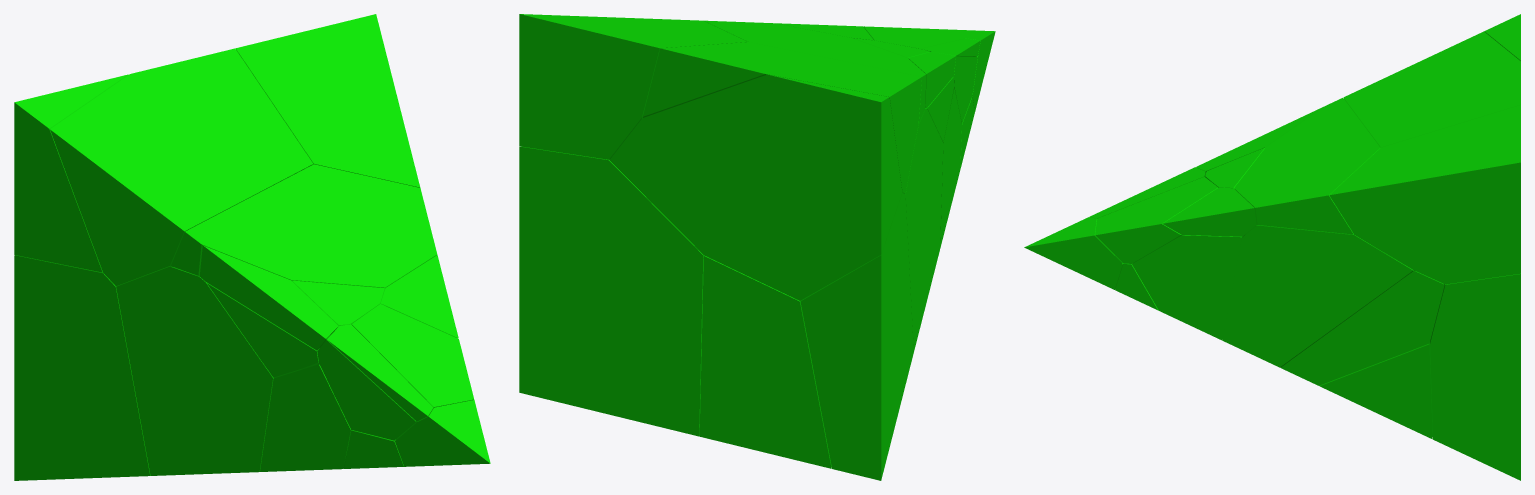
The model's file is ShatteredPlayerCharacter.fbx.
3 views of the same model, side by side, from view 1: azimuth 30°, elevation 25°; view 2: azimuth 150°, elevation 25°; view 3: azimuth 270°, elevation 25° (orthographic). The views are drawn at different scales.
Parts seen in each view (by area): view 1: Cone_cell.020, Cone_cell.013, Cone_cell.023, Cone_cell.022, Cone_cell.014, Cone_cell.018, Cone_cell.002, Cone_cell.012, Cone_cell.021, Cone_cell.006, Cone_cell.003, Cone_cell.005 (+3 smaller); view 2: Cone_cell.018, Cone_cell.004, Cone_cell.011, Cone_cell.014, Cone_cell.013, Cone_cell.020, Cone_cell.023, Cone_cell.022, Cone_cell.002, Cone_cell.012, Cone_cell.006, Cone_cell.021 (+4 smaller); view 3: Cone_cell.014, Cone_cell.010, Cone_cell.004, Cone_cell.020, Cone_cell.022, Cone_cell.009, Cone_cell.016, Cone_cell.007, Cone_cell.012, Cone_cell.003, Cone_cell, Cone_cell.021 (+4 smaller).
Boxes of the visible parts, left/top/right/bottom form: Cone_cell.020: left=50, top=48, right=313, bottom=286; Cone_cell.013: left=14, top=255, right=150, bottom=480; Cone_cell.023: left=116, top=266, right=273, bottom=475; Cone_cell.022: left=171, top=164, right=437, bottom=288; Cone_cell.014: left=235, top=14, right=420, bottom=187; Cone_cell.018: left=14, top=74, right=128, bottom=273; Cone_cell.002: left=260, top=364, right=351, bottom=471; Cone_cell.012: left=351, top=304, right=474, bottom=407; Cone_cell.021: left=199, top=245, right=338, bottom=350; Cone_cell.006: left=206, top=280, right=385, bottom=378; Cone_cell.003: left=395, top=400, right=490, bottom=466; Cone_cell.005: left=317, top=339, right=415, bottom=440; Cone_cell.018: left=609, top=74, right=902, bottom=300; Cone_cell.004: left=519, top=146, right=703, bottom=436; Cone_cell.011: left=699, top=255, right=831, bottom=468; Cone_cell.014: left=519, top=14, right=747, bottom=159; Cone_cell.013: left=800, top=193, right=913, bottom=480; Cone_cell.020: left=642, top=42, right=921, bottom=193; Cone_cell.023: left=905, top=108, right=943, bottom=351; Cone_cell.022: left=704, top=20, right=926, bottom=123; Cone_cell.002: left=940, top=88, right=961, bottom=248; Cone_cell.012: left=863, top=26, right=964, bottom=48; Cone_cell.006: left=852, top=38, right=954, bottom=142; Cone_cell.021: left=908, top=52, right=955, bottom=108; Cone_cell.014: left=1329, top=105, right=1520, bottom=284; Cone_cell.010: left=1222, top=225, right=1414, bottom=367; Cone_cell.004: left=1429, top=273, right=1520, bottom=480; Cone_cell.020: left=1343, top=31, right=1520, bottom=147; Cone_cell.022: left=1234, top=98, right=1380, bottom=234; Cone_cell.009: left=1281, top=271, right=1444, bottom=385; Cone_cell.016: left=1132, top=235, right=1243, bottom=340; Cone_cell.007: left=1319, top=344, right=1432, bottom=439; Cone_cell.012: left=1095, top=176, right=1218, bottom=263; Cone_cell.003: left=1024, top=217, right=1123, bottom=289; Cone_cell: left=1162, top=187, right=1256, bottom=236; Cone_cell.021: left=1196, top=106, right=1323, bottom=173.
Size of the model in its own units: 141 by 141 by 200.
